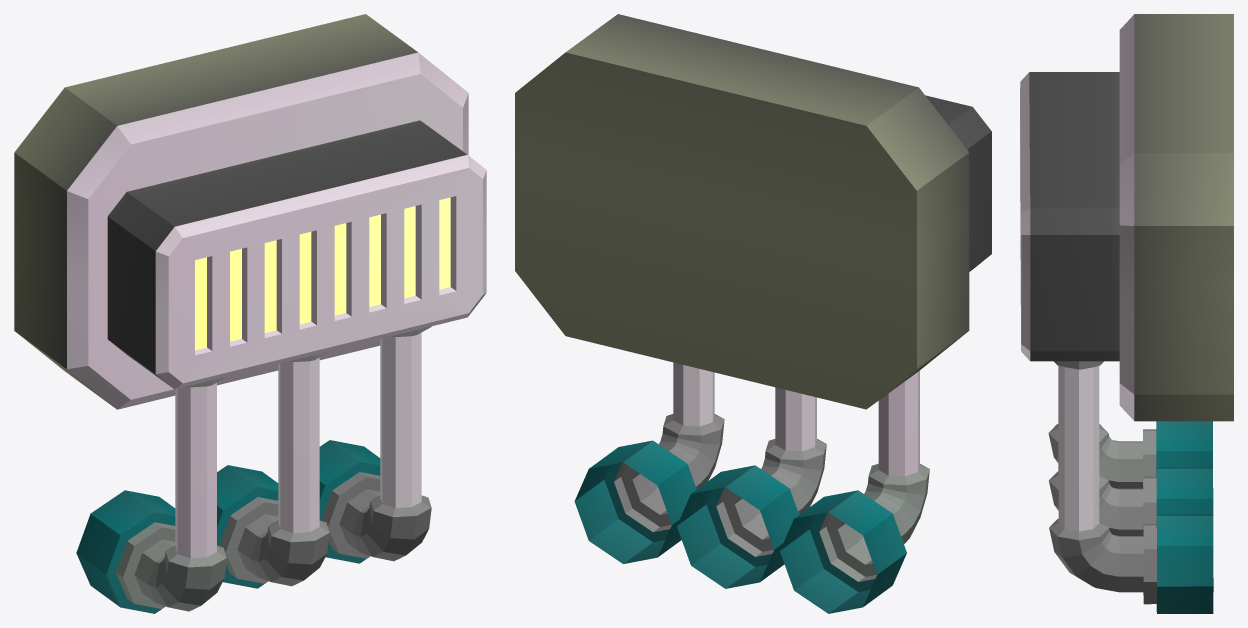
The model's file is Air_exchanger.fbx.
3 renders of one model, left to right at view 1: azimuth 30°, elevation 25°; view 2: azimuth 150°, elevation 25°; view 3: azimuth 270°, elevation 25°, orthographic. The views are drawn at different scales.
Parts seen in each view (by area): view 1: Air_exchanger; view 2: Air_exchanger; view 3: Air_exchanger.
Part boxes in pixels (<box>): Air_exchanger: <box>14,14,486,613</box>; Air_exchanger: <box>515,14,991,613</box>; Air_exchanger: <box>1020,14,1233,613</box>.
Size of the model in its own units: 85.07 by 103 by 41.42.
